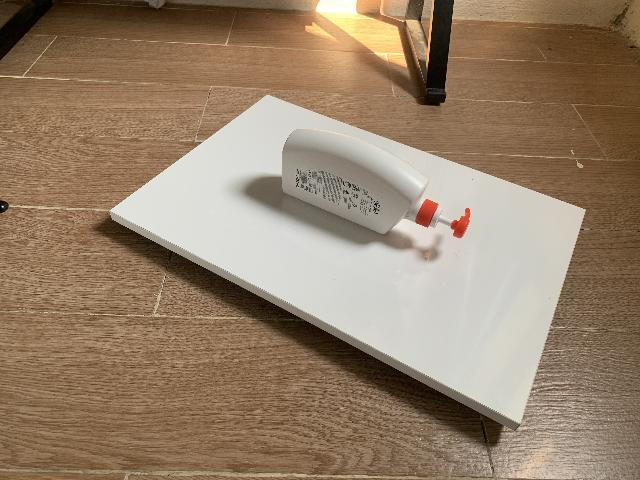life-buoy: (281, 129, 470, 239)
